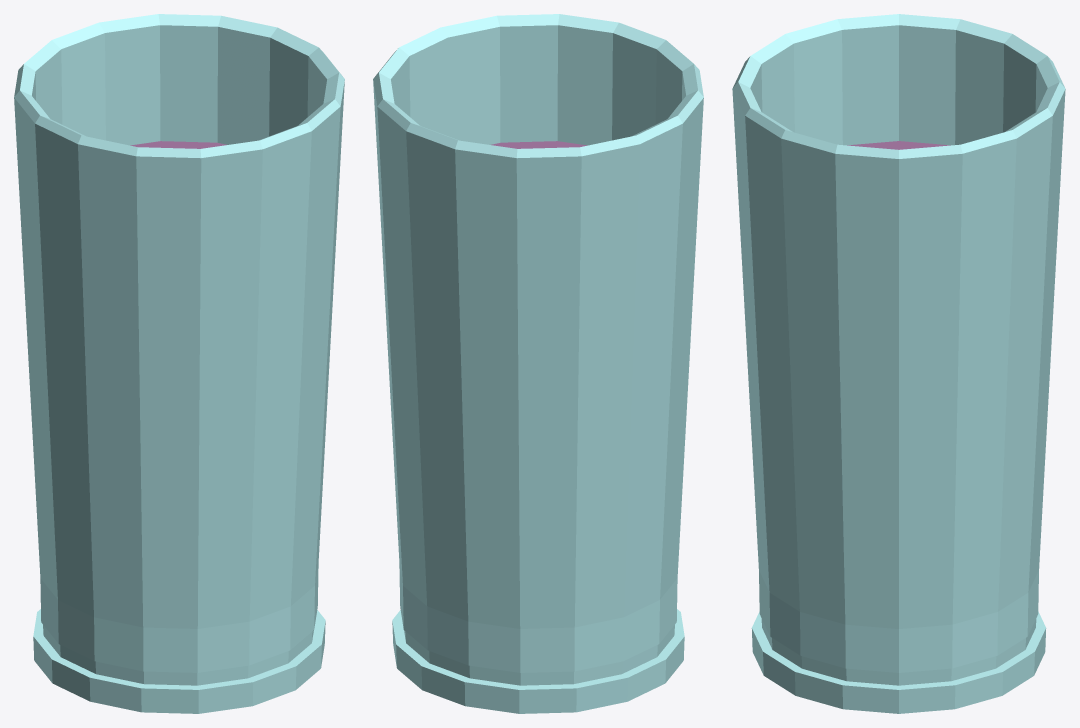
File: cupFilledPurple.fbx
3 views of the same model, side by side, from view 1: azimuth 30°, elevation 25°; view 2: azimuth 150°, elevation 25°; view 3: azimuth 270°, elevation 25° (orthographic).
Visible parts, largest first — view 1: Cup, Juice; view 2: Cup, Juice; view 3: Cup, Juice.
Boxes of the visible parts, left/top/right/bottom form: Cup: left=14, top=14, right=344, bottom=713; Juice: left=130, top=141, right=226, bottom=148; Cup: left=373, top=14, right=703, bottom=713; Juice: left=491, top=141, right=587, bottom=148; Cup: left=732, top=14, right=1065, bottom=713; Juice: left=847, top=141, right=950, bottom=149.
Bounding box in the file's own units: 228 × 430 × 228.
